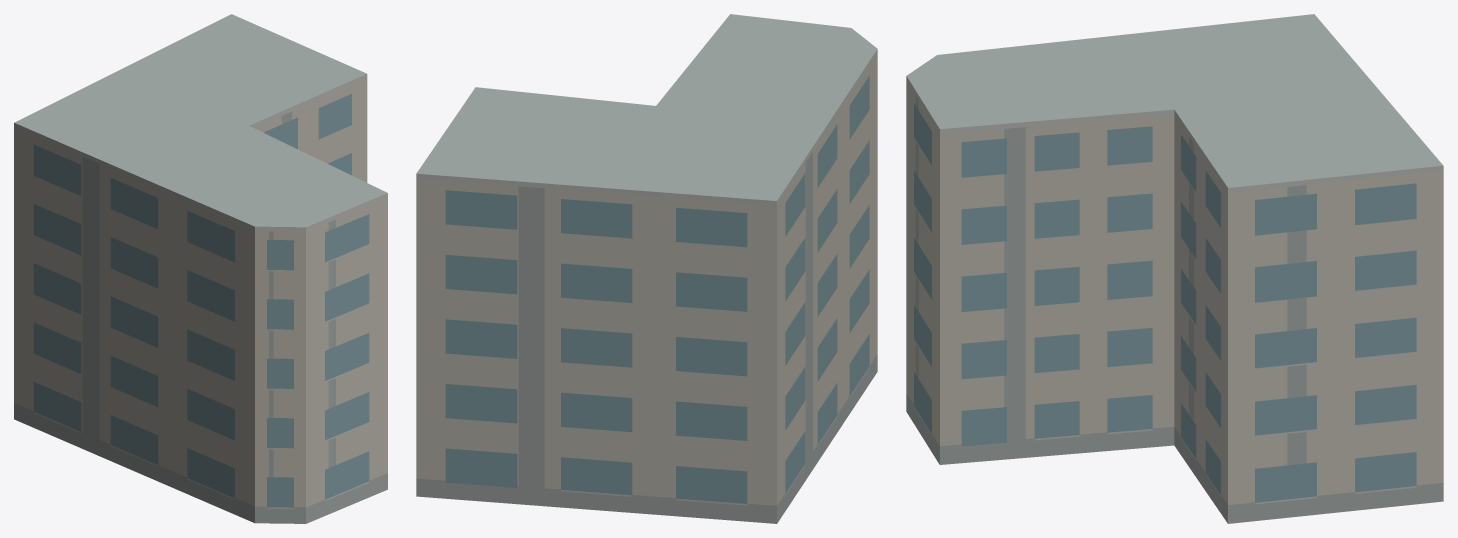
The model's file is survey-upis-32651106.glb.
3 renders of one model, left to right at view 1: azimuth 30°, elevation 25°; view 2: azimuth 150°, elevation 25°; view 3: azimuth 270°, elevation 25°, orthographic. The views are drawn at different scales.
Parts seen in each view (by area): view 1: survey-upis-32651106.tmp; view 2: survey-upis-32651106.tmp; view 3: survey-upis-32651106.tmp.
Part boxes in pixels (left/top/right/bottom): survey-upis-32651106.tmp: left=14, top=14, right=387, bottom=523; survey-upis-32651106.tmp: left=416, top=14, right=877, bottom=523; survey-upis-32651106.tmp: left=906, top=14, right=1443, bottom=523.
Size of the model in its own units: 17.9 by 16.1 by 23.34.
